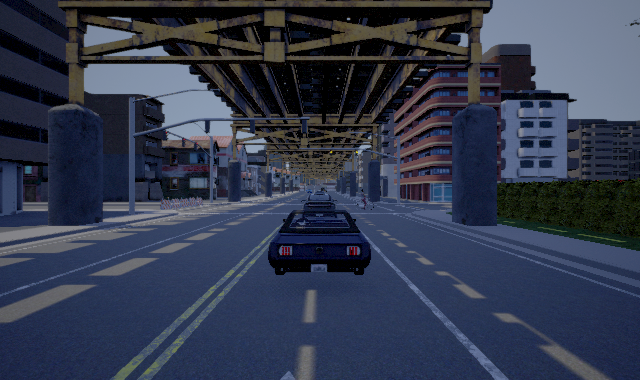bike: (354, 189, 377, 211)
traffic_light: (194, 142, 199, 151), (182, 137, 186, 147), (355, 149, 358, 156), (330, 149, 332, 156)
vehicle: (268, 187, 371, 275)
